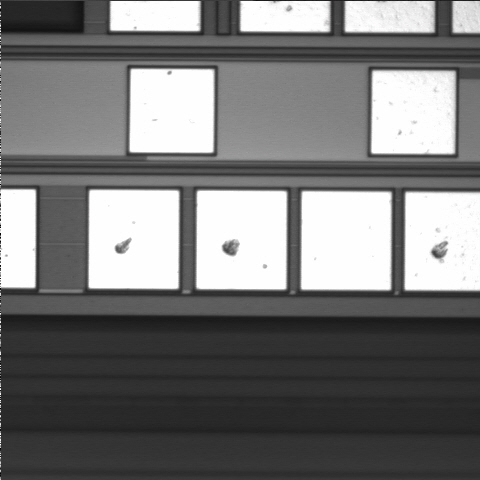pad: (196, 191, 287, 289), (89, 190, 179, 289), (301, 191, 391, 290), (130, 69, 214, 153), (371, 71, 455, 154)
